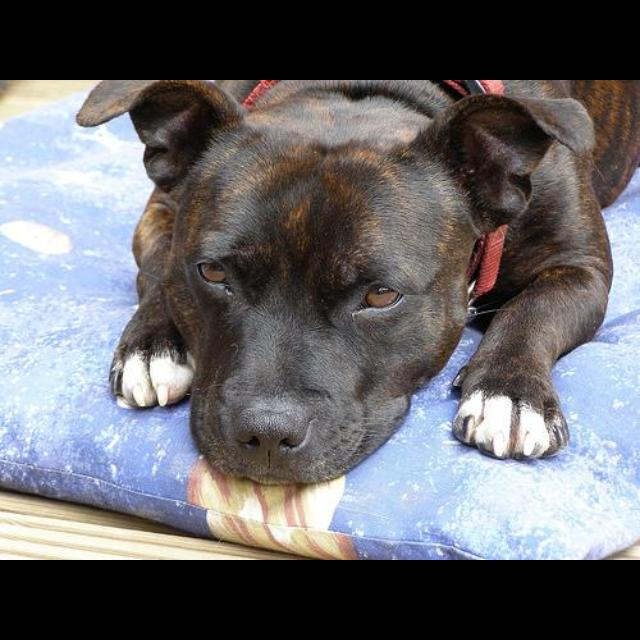amstaff: (76, 82, 637, 487)
